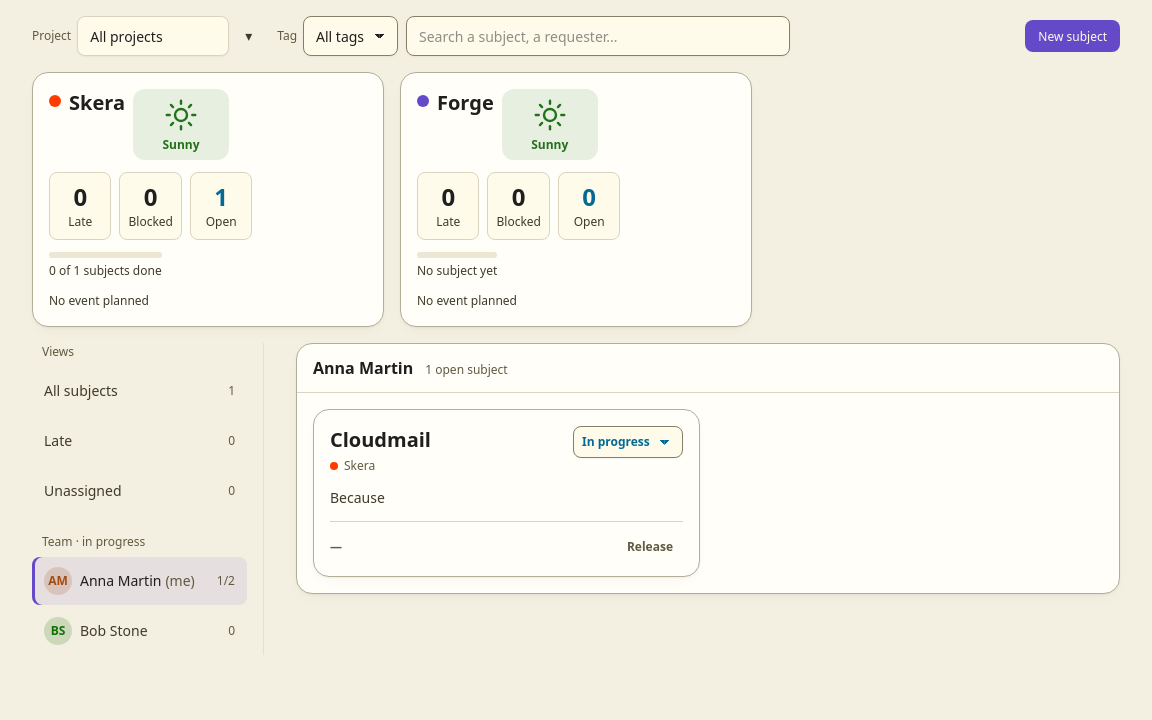
Test case: SubjectsScreen drawer › gives the project links of the drawer a 40px target on a phone
Click the list item with test id "subject-row-1": click(506, 493) [313,409,700,578]
(page scrolled)
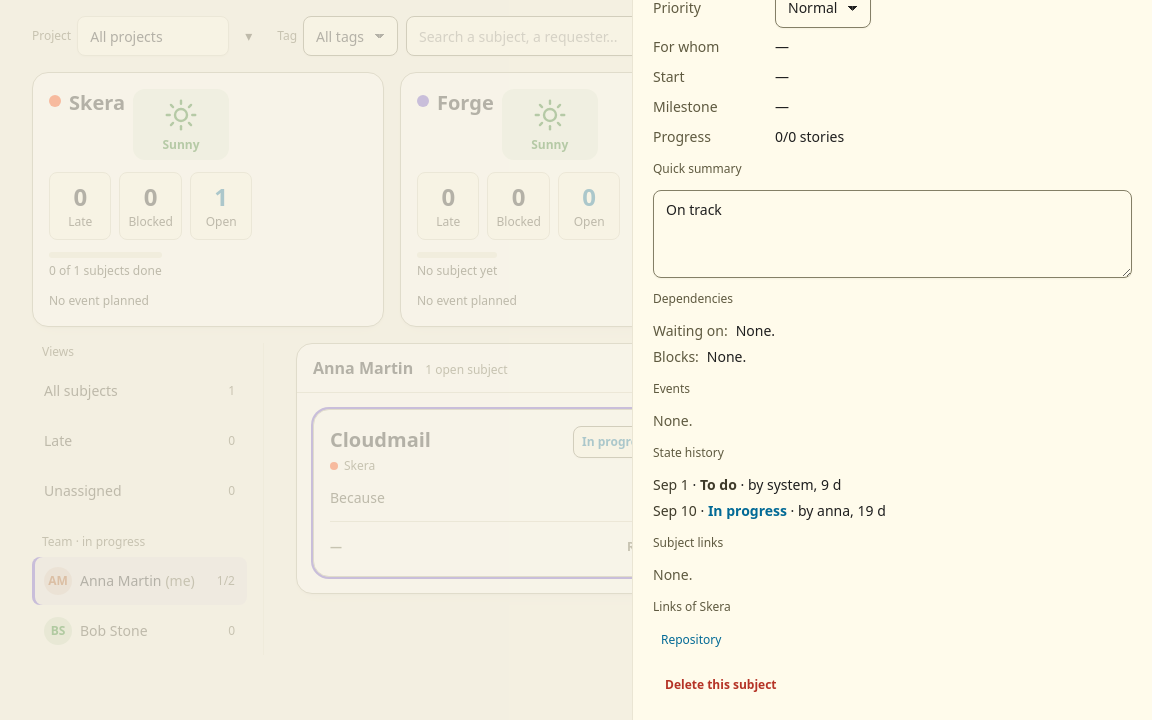
Now the link "Repository" is shown, box [653,629,729,650]
